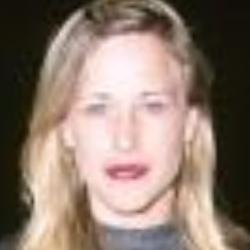face: (10, 1, 225, 229)
